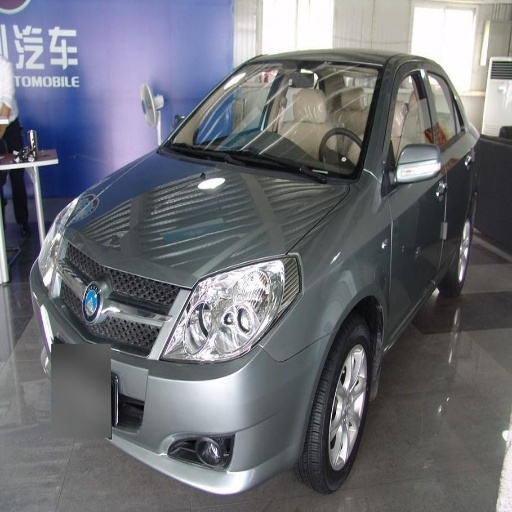front_bumper: (49, 263, 332, 490)
front_glass: (158, 62, 384, 180)
front_left_door: (386, 60, 444, 326)
